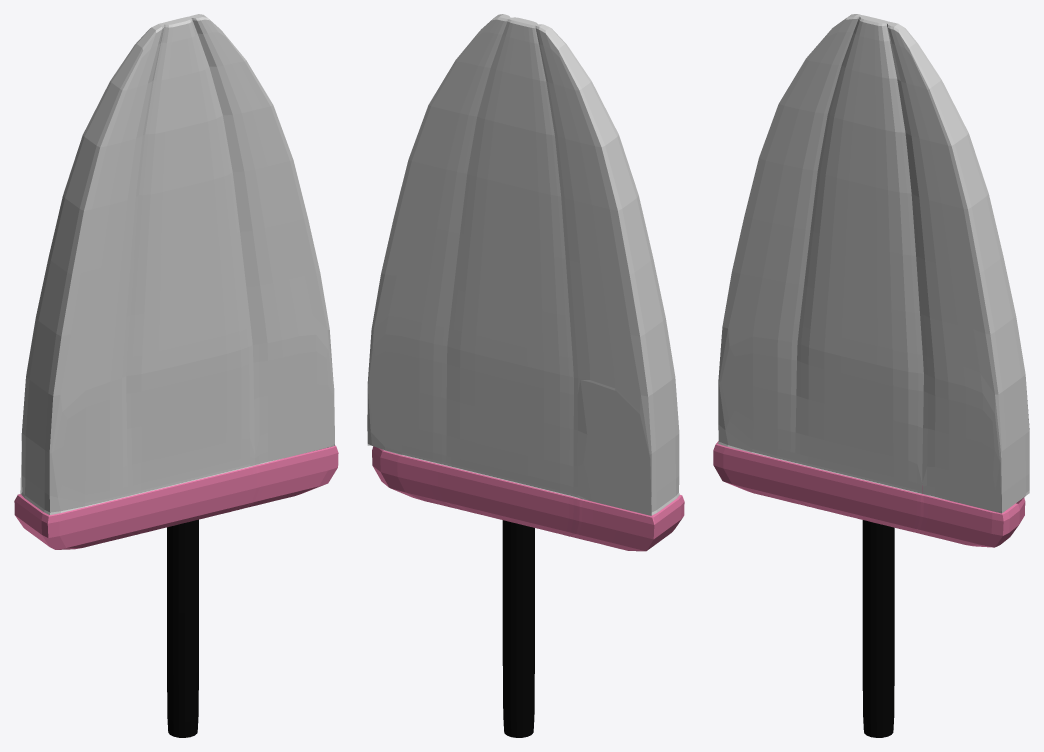
The model's file is Albero2.fbx.
3 renders of one model, left to right at view 1: azimuth 30°, elevation 25°; view 2: azimuth 150°, elevation 25°; view 3: azimuth 330°, elevation 25°, orthographic.
Parts seen in each view (by area): view 1: Ghiacciolo.001, Cylinder; view 2: Ghiacciolo.001, Cylinder; view 3: Ghiacciolo.001, Cylinder.
Part boxes in pixels (<box>): Ghiacciolo.001: <box>14,14,338,549</box>; Cylinder: <box>167,519,198,737</box>; Ghiacciolo.001: <box>367,14,684,551</box>; Cylinder: <box>502,520,534,737</box>; Ghiacciolo.001: <box>713,14,1029,547</box>; Cylinder: <box>862,520,894,737</box>.
Bounding box in the file's own units: 597 × 1381 × 115.
